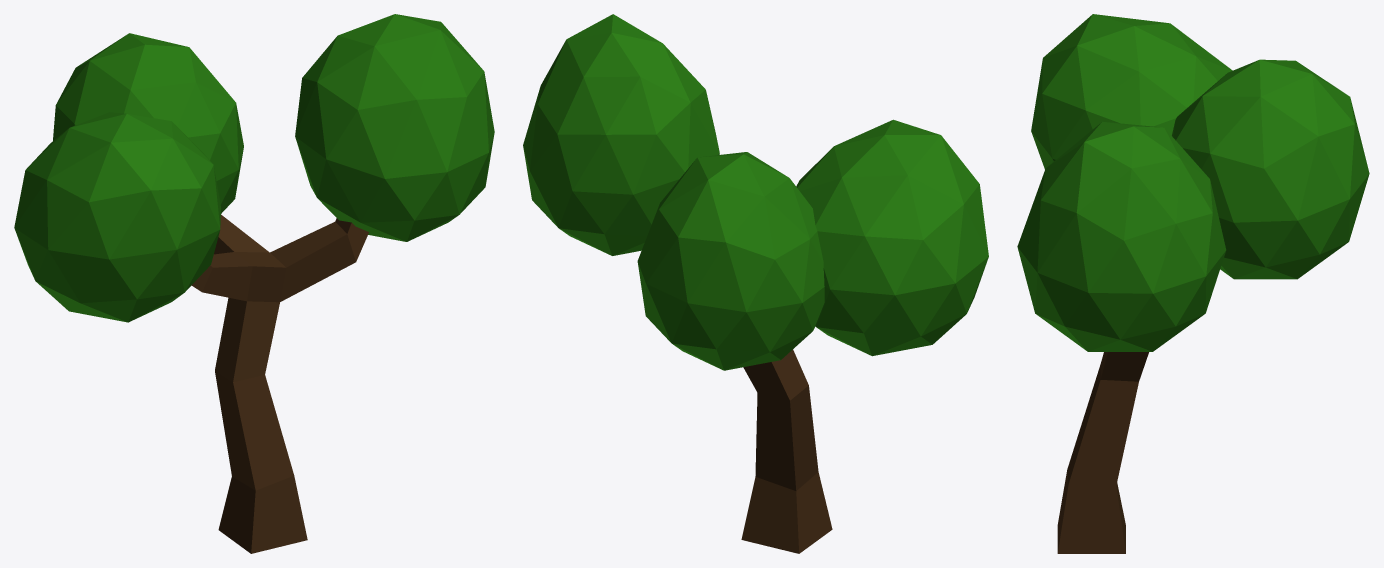
Rendered from Tree_var1.fbx.
3 renders of one model, left to right at view 1: azimuth 30°, elevation 25°; view 2: azimuth 150°, elevation 25°; view 3: azimuth 270°, elevation 25°, orthographic. The views are drawn at different scales.
Parts seen in each view (by area): view 1: Tree1_LOD0; view 2: Tree1_LOD0; view 3: Tree1_LOD0.
Boxes of the visible parts, <box> form: Tree1_LOD0: <box>14,14,494,553</box>; Tree1_LOD0: <box>523,14,988,553</box>; Tree1_LOD0: <box>1017,14,1369,553</box>.
Size of what is drawn, in the model's own units: 892 by 915 by 595.
